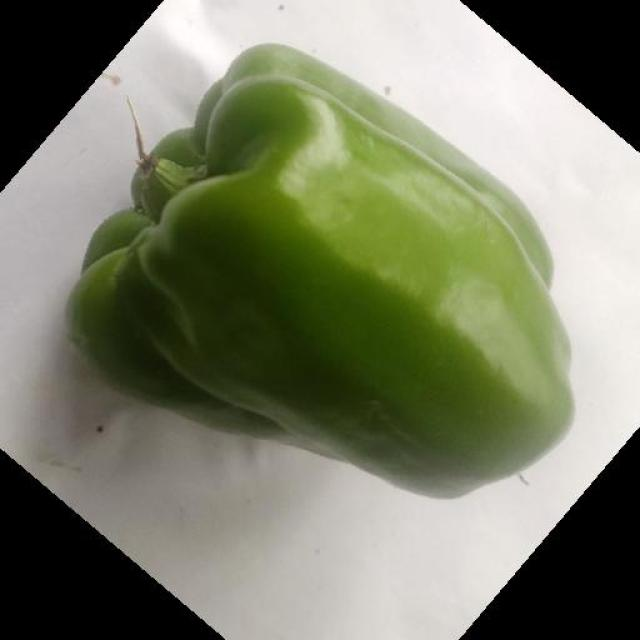Fresh_Capsicum: (102, 56, 588, 482)
